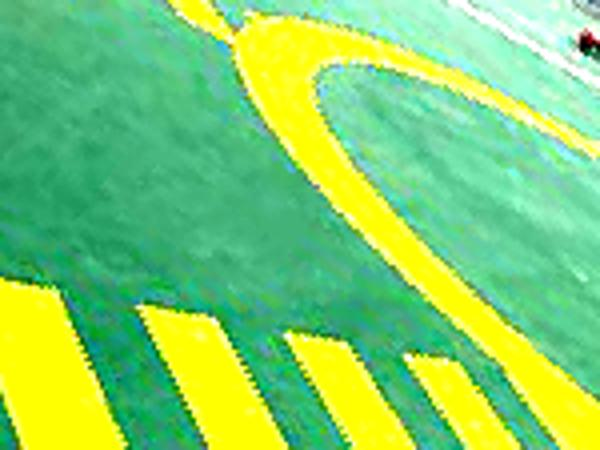Apron: (234, 10, 600, 450)
